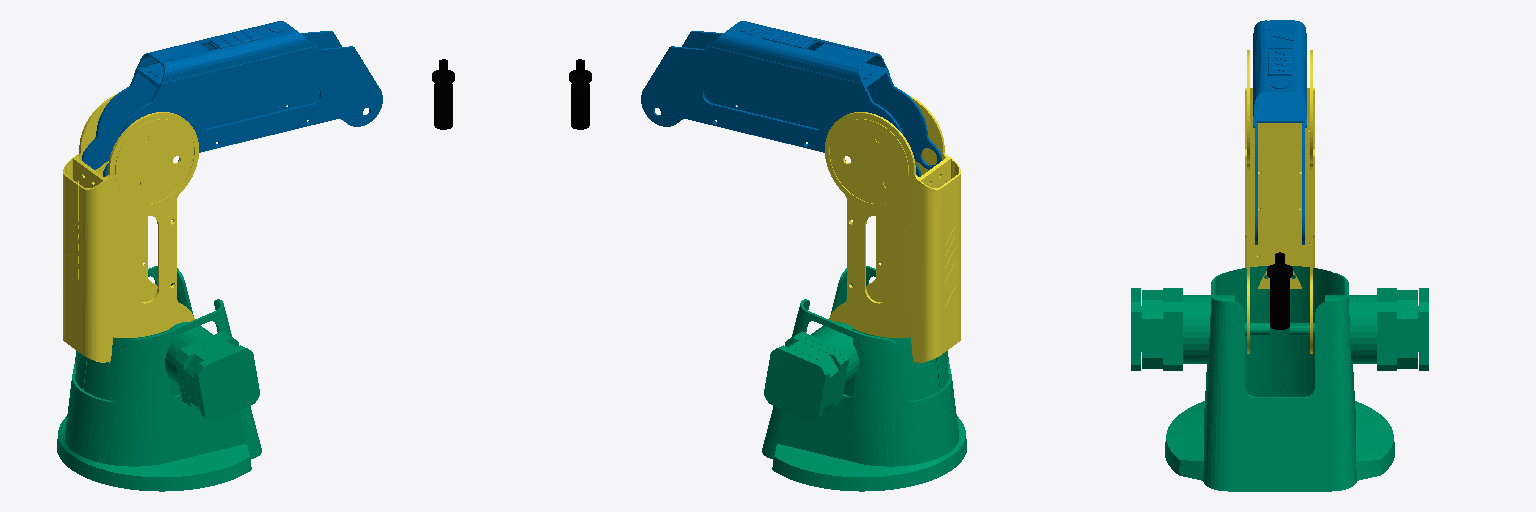
The robot description file, URDF, robot "scenario":
<?xml version="1.0" encoding="utf-8"?>
<!-- =================================================================================== -->
<!-- |    This document was autogenerated by xacro from /root/catkin_ws/src/dobot_description/urdf/scenario.xacro | -->
<!-- |    EDITING THIS FILE BY HAND IS NOT RECOMMENDED                                 | -->
<!-- =================================================================================== -->
<robot name="scenario">
  <!-- Created on: Mai, 2019 Author: [author] -->
  <!-- Defining usefull macros -->
  <!-- Created on: Mai, 2019 Author: [author] -->
  <gazebo>
    <plugin filename="libgazebo_ros_control.so" name="gazebo_ros_control">
      <robotNamespace>Dobot_Loader</robotNamespace>
    </plugin>
    <plugin filename="libdobotSim.so" name="dobotSim">
\t  </plugin>
  </gazebo>
  <link name="world"/>
  <joint name="Dobot_Loader_fixed" type="fixed">
    <parent link="world"/>
    <child link="Dobot_Loader"/>
    <origin rpy="0.0 0.0 0.0" xyz="0.0 0.0 0.06"/>
  </joint>
  <link name="Dobot_Loader">
    <inertial>
      <origin rpy="0 0 0" xyz="0 0 0.0"/>
      <mass value="1.0"/>
      <inertia ixx="0.00346666666667" ixy="0" ixz="0" iyy="0.00346666666667" iyz="0" izz="0.00666666666667"/>
    </inertial>
    <visual name="stand_vis">
      <origin rpy="0 -0.0 0" xyz="0 0 0"/>
      <geometry>
        <mesh filename="package://dobot_description/meshes/stand.dae" scale="1 1 1"/>
      </geometry>
    </visual>
    <collision name="stand_col">
      <origin rpy="0 0 0" xyz="0 0 -0.02"/>
      <geometry>
        <box size="0.16 0.16 0.04"/>
      </geometry>
    </collision>
  </link>
  <link name="Dobot_Loader_base_link">
    <inertial>
      <origin rpy="0 0 0" xyz="0 0 0.055"/>
      <mass value="0.75"/>
      <inertia ixx="0.000703125" ixy="0" ixz="0" iyy="0.000703125" iyz="0" izz="0.000703125"/>
    </inertial>
    <visual name="base_vis">
      <origin rpy="0 -0.0 0" xyz="0 0 0"/>
      <geometry>
        <mesh filename="package://dobot_description/meshes/base.dae" scale="1 1 1"/>
      </geometry>
    </visual>
    <collision name="base_vis">
      <origin rpy="0 0 0" xyz="0 0 0.055"/>
      <geometry>
        <cylinder length="0.11" radius="0.045"/>
      </geometry>
    </collision>
  </link>
  <joint name="Dobot_Loader_base_joint" type="revolute">
    <parent link="Dobot_Loader"/>
    <child link="Dobot_Loader_base_link"/>
    <origin rpy="0.0 0.0 0.0" xyz="0.0 0.0 0.0"/>
    <axis xyz="0 0 1"/>
    <dynamics damping="1.0" friction="1.0"/>
    <limit effort="50.0" lower="-3.0" upper="3.0" velocity="3.1415"/>
  </joint>
  <gazebo reference="Dobot_Loader_base_joint">
    <implicitSpringDamper>True</implicitSpringDamper>
  </gazebo>
  <transmission name="Dobot_Loader_base_transmission">
    <type>transmission_interface/SimpleTransmission</type>
    <joint name="Dobot_Loader_base_joint">
      <hardwareInterface>hardware_interface/EffortJointInterface</hardwareInterface>
    </joint>
    <actuator name="Dobot_Loader_base_motor">
      <hardwareInterface>hardware_interface/EffortJointInterface</hardwareInterface>
      <mechanicalReduction>1</mechanicalReduction>
    </actuator>
  </transmission>
  <link name="Dobot_Loader_shoulder_link">
    <inertial>
      <origin rpy="0 0 0" xyz="-0.03 0 0.08"/>
      <mass value="0.3"/>
      <inertia ixx="0.0006025" ixy="0" ixz="0" iyy="0.0007225" iyz="0" izz="0.0002"/>
    </inertial>
    <visual name="shoulder_vis">
      <origin rpy="0 -0.0 0" xyz="0 0 0"/>
      <geometry>
        <mesh filename="package://dobot_description/meshes/shoulder.dae" scale="1 1 1"/>
      </geometry>
    </visual>
    <collision name="shoulder_col">
      <origin rpy="0 0 0" xyz="-0.03 0 0.08"/>
      <geometry>
        <box size="0.08 0.04 0.15"/>
      </geometry>
    </collision>
  </link>
  <joint name="Dobot_Loader_shoulder_joint" type="revolute">
    <parent link="Dobot_Loader_base_link"/>
    <child link="Dobot_Loader_shoulder_link"/>
    <origin rpy="0.0 0.0 0.0" xyz="0.0 0.0 0.082"/>
    <axis xyz="0 1 0"/>
    <dynamics damping="1.0" friction="1.0"/>
    <limit effort="5.0" lower="-3.0" upper="3.0" velocity="3.1415"/>
  </joint>
  <gazebo reference="Dobot_Loader_shoulder_joint">
    <implicitSpringDamper>True</implicitSpringDamper>
  </gazebo>
  <transmission name="Dobot_Loader_shoulder_transmission">
    <type>transmission_interface/SimpleTransmission</type>
    <joint name="Dobot_Loader_shoulder_joint">
      <hardwareInterface>hardware_interface/EffortJointInterface</hardwareInterface>
    </joint>
    <actuator name="Dobot_Loader_shoulder_motor">
      <hardwareInterface>hardware_interface/EffortJointInterface</hardwareInterface>
      <mechanicalReduction>1</mechanicalReduction>
    </actuator>
  </transmission>
  <link name="Dobot_Loader_elbow_link">
    <inertial>
      <origin rpy="0 0 0" xyz="0.07 0 0.02"/>
      <mass value="0.3"/>
      <inertia ixx="0.00013" ixy="0" ixz="0" iyy="0.0009925" iyz="0" izz="0.0009425"/>
    </inertial>
    <visual name="elbow_vis">
      <origin rpy="0 -0.0 0" xyz="0 0 0"/>
      <geometry>
        <mesh filename="package://dobot_description/meshes/elbow.dae" scale="1 1 1"/>
      </geometry>
    </visual>
    <collision name="elbow_col">
      <origin rpy="0 0 0" xyz="0.07 0 0.02"/>
      <geometry>
        <box size="0.19 0.04 0.06"/>
      </geometry>
    </collision>
  </link>
  <joint name="Dobot_Loader_elbow_joint" type="revolute">
    <parent link="Dobot_Loader_shoulder_link"/>
    <child link="Dobot_Loader_elbow_link"/>
    <origin rpy="0.0 0.0 0.0" xyz="0.0 0.0 0.135"/>
    <axis xyz="0 1 0"/>
    <dynamics damping="1.0" friction="1.0"/>
    <limit effort="50.0" lower="-3.0" upper="3.0" velocity="3.1415"/>
  </joint>
  <gazebo reference="Dobot_Loader_elbow_joint">
    <implicitSpringDamper>True</implicitSpringDamper>
  </gazebo>
  <transmission name="Dobot_Loader_elbow_transmission">
    <type>transmission_interface/SimpleTransmission</type>
    <joint name="Dobot_Loader_elbow_joint">
      <hardwareInterface>hardware_interface/EffortJointInterface</hardwareInterface>
    </joint>
    <actuator name="Dobot_Loader_elbow_motor">
      <hardwareInterface>hardware_interface/EffortJointInterface</hardwareInterface>
      <mechanicalReduction>1</mechanicalReduction>
    </actuator>
  </transmission>
  <link name="Dobot_Loader_hand_link">
    <inertial>
      <origin rpy="0 0 0" xyz="0.05 0 0.005"/>
      <mass value="0.2"/>
      <inertia ixx="4.83333333333e-05" ixy="0" ixz="0" iyy="0.000208333333333" iyz="0" izz="0.000173333333333"/>
    </inertial>
    <visual name="hand_vis">
      <origin rpy="0 0 0" xyz="0 0 0"/>
      <!-- ${-PI_2} -->
      <geometry>
        <mesh filename="package://dobot_description/meshes/hand.dae" scale="1 1 1"/>
      </geometry>
    </visual>
    <collision name="hand_col">
      <origin rpy="0 0 0" xyz="0.05 0 0.005"/>
      <geometry>
        <box size="0.1 0.02 0.05"/>
      </geometry>
    </collision>
  </link>
  <joint name="Dobot_Loader_hand_joint" type="revolute">
    <parent link="Dobot_Loader_elbow_link"/>
    <child link="Dobot_Loader_hand_link"/>
    <origin rpy="0.0 0 0.0" xyz="0.147 0.0 0.0"/>
    <!-- 0 ${PI_2} 0 -->
    <axis xyz="0 1 0"/>
    <dynamics damping="1.0" friction="1.0"/>
    <limit effort="50.0" lower="-3.0" upper="3.0" velocity="3.1415"/>
  </joint>
  <gazebo reference="Dobot_Loader_hand_joint">
    <implicitSpringDamper>True</implicitSpringDamper>
  </gazebo>
  <!-- 
\t\t<transmission name="${name}_hand_transmission">
\t\t\t<type>transmission_interface/SimpleTransmission</type>
\t\t\t<joint name="${name}_hand_joint">
\t\t\t\t<hardwareInterface>hardware_interface/VelocityJointInterface</hardwareInterface>
\t\t\t</joint>
\t\t\t<actuator name="${name}_hand_motor">
\t\t\t\t<hardwareInterface>hardware_interface/VelocityJointInterface</hardwareInterface>
\t\t\t\t<mechanicalReduction>1</mechanicalReduction>
\t\t\t</actuator>
\t\t</transmission> -->
  <link name="Dobot_Loader_tool">
    <inertial>
      <origin rpy="0 0 0" xyz="0 0 0.0"/>
      <mass value="0.1"/>
      <inertia ixx="8.41666666667e-05" ixy="0" ixz="0" iyy="8.41666666667e-05" iyz="0" izz="1.66666666667e-06"/>
    </inertial>
    <visual name="base_vis">
      <origin rpy="0 -0.0 0" xyz="0 0 0"/>
      <geometry>
        <mesh filename="package://dobot_description/meshes/suctionTool.dae" scale="1 1 1"/>
      </geometry>
    </visual>
    <collision name="tool_col">
      <origin rpy="0 0 0" xyz="0 0 -0.025"/>
      <geometry>
        <cylinder length="0.07" radius="0.01"/>
      </geometry>
    </collision>
    <collision name="suction_col">
      <origin rpy="0 0 0" xyz="0 0 -0.062"/>
      <geometry>
        <cylinder length="0.001" radius="0.0125"/>
      </geometry>
    </collision>
  </link>
  <joint name="Dobot_Loader_tool_joint" type="revolute">
    <parent link="Dobot_Loader_hand_link"/>
    <child link="Dobot_Loader_tool"/>
    <origin rpy="0 0 0" xyz="0.069 0.0 0.0"/>
    <axis xyz="0 0 1"/>
    <dynamics damping="1.0" friction="1.0"/>
    <limit effort="5.0" lower="-3.0" upper="3.0" velocity="1.5707"/>
  </joint>
  <gazebo reference="Dobot_Loader_tool_joint">
    <implicitSpringDamper>True</implicitSpringDamper>
  </gazebo>
  <transmission name="Dobot_Loader_tool_transmission">
    <type>transmission_interface/SimpleTransmission</type>
    <joint name="Dobot_Loader_tool_joint">
      <hardwareInterface>hardware_interface/EffortJointInterface</hardwareInterface>
    </joint>
    <actuator name="Dobot_Loader_tool_motor">
      <hardwareInterface>hardware_interface/EffortJointInterface</hardwareInterface>
      <mechanicalReduction>1</mechanicalReduction>
    </actuator>
  </transmission>
</robot>

--- Facts derived from the render (not from the file) ---
3 views of the same robot in one strip: view 1: azimuth 30°, elevation 25°; view 2: azimuth 150°, elevation 25°; view 3: azimuth 270°, elevation 25° (orthographic).
Robot: scenario — 7 links, 6 joints (5 revolute, 1 fixed); root link world; default pose: every joint at zero.
Links seen in each view (by area): view 1: Dobot_Loader_base_link, Dobot_Loader_shoulder_link, Dobot_Loader_elbow_link, Dobot_Loader_tool; view 2: Dobot_Loader_base_link, Dobot_Loader_shoulder_link, Dobot_Loader_elbow_link, Dobot_Loader_tool; view 3: Dobot_Loader_base_link, Dobot_Loader_shoulder_link, Dobot_Loader_elbow_link, Dobot_Loader_tool.
Link boxes in pixels (x1,y1,x2,y2): Dobot_Loader_base_link: (57, 266, 261, 491); Dobot_Loader_shoulder_link: (63, 94, 198, 362); Dobot_Loader_elbow_link: (82, 21, 382, 176); Dobot_Loader_tool: (432, 59, 454, 129); Dobot_Loader_base_link: (762, 266, 966, 491); Dobot_Loader_shoulder_link: (825, 94, 960, 362); Dobot_Loader_elbow_link: (641, 21, 941, 176); Dobot_Loader_tool: (569, 59, 591, 129); Dobot_Loader_base_link: (1131, 266, 1428, 491); Dobot_Loader_shoulder_link: (1245, 50, 1314, 353); Dobot_Loader_elbow_link: (1253, 20, 1306, 244); Dobot_Loader_tool: (1267, 252, 1292, 329).
Size in the robot's own frame: 0.2935 by 0.1796 by 0.2861 metres.
4 mesh visuals loaded from 6 distinct referenced files (4 Collada DAE); not drawn: 2 (reference not matched to a file when rendering).
